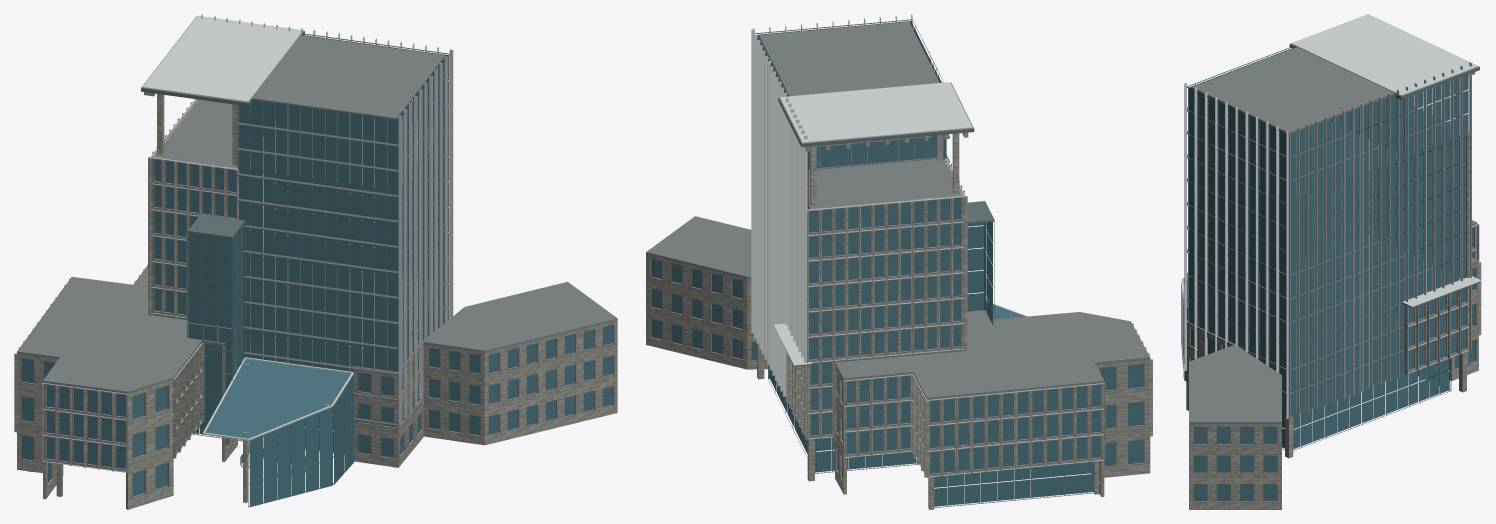
3 renders of one model, left to right at view 1: azimuth 30°, elevation 25°; view 2: azimuth 150°, elevation 25°; view 3: azimuth 270°, elevation 25°, orthographic. The views are drawn at different scales.
Visible parts, largest first — view 1: media__glass, media__roof, media__stone, media__light, media__frame, media__cream; view 2: media__glass, media__roof, media__stone, media__light, media__frame, media__cream; view 3: media__glass, media__light, media__roof, media__stone, media__frame, media__cream.
Boxes of the visible parts, bbox=[...] form: media__glass: bbox=[22, 35, 612, 506]; media__roof: bbox=[17, 35, 617, 393]; media__stone: bbox=[17, 99, 617, 509]; media__light: bbox=[16, 14, 453, 507]; media__frame: bbox=[21, 16, 614, 506]; media__cream: bbox=[14, 92, 328, 502]; media__glass: bbox=[651, 21, 1143, 506]; media__roof: bbox=[646, 21, 1150, 399]; media__stone: bbox=[646, 159, 1150, 509]; media__light: bbox=[751, 14, 1150, 477]; media__frame: bbox=[650, 19, 1144, 507]; media__cream: bbox=[786, 132, 1152, 477]; media__glass: bbox=[1181, 47, 1475, 501]; media__light: bbox=[1182, 14, 1481, 419]; media__roof: bbox=[1187, 47, 1478, 423]; media__stone: bbox=[1186, 107, 1478, 509]; media__frame: bbox=[1183, 43, 1480, 502]; media__cream: bbox=[1304, 72, 1481, 374].
Size of the model in its own units: 76.84 by 49.75 by 41.21.
Materials: 7 (3 with a texture image).
